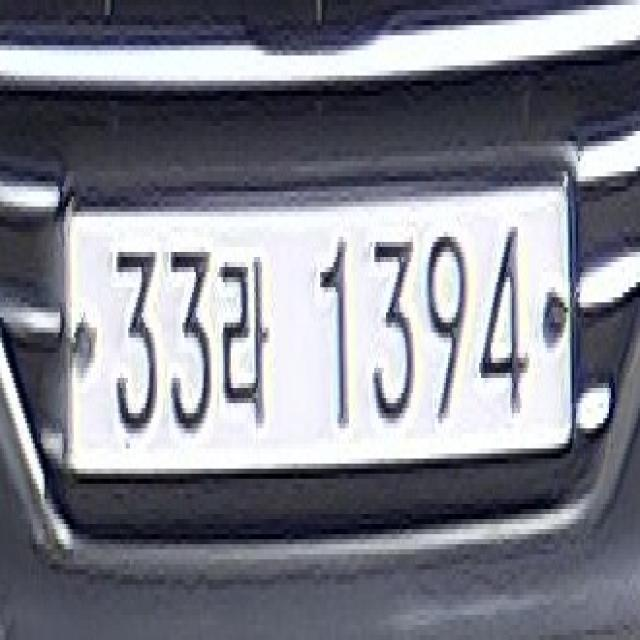1: (318, 237, 351, 423)
3: (370, 222, 415, 428), (114, 237, 159, 438), (167, 242, 213, 438)
4: (477, 227, 531, 418)
9: (423, 222, 467, 418)
la: (216, 247, 272, 428)
license_plate: (66, 196, 572, 478)
